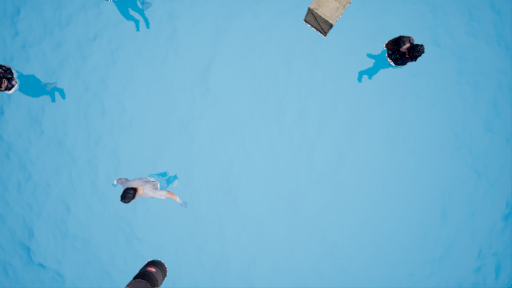person: (352, 35, 427, 85), (1, 60, 69, 104), (115, 171, 184, 211)
